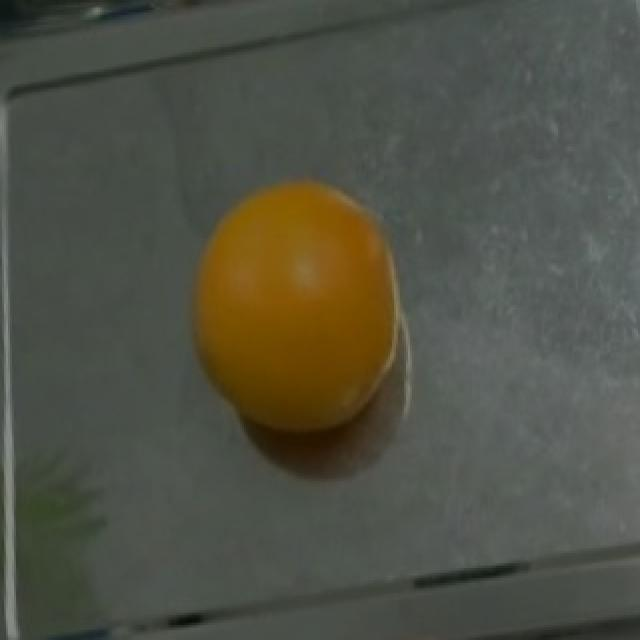Fruit: (178, 169, 428, 454)
